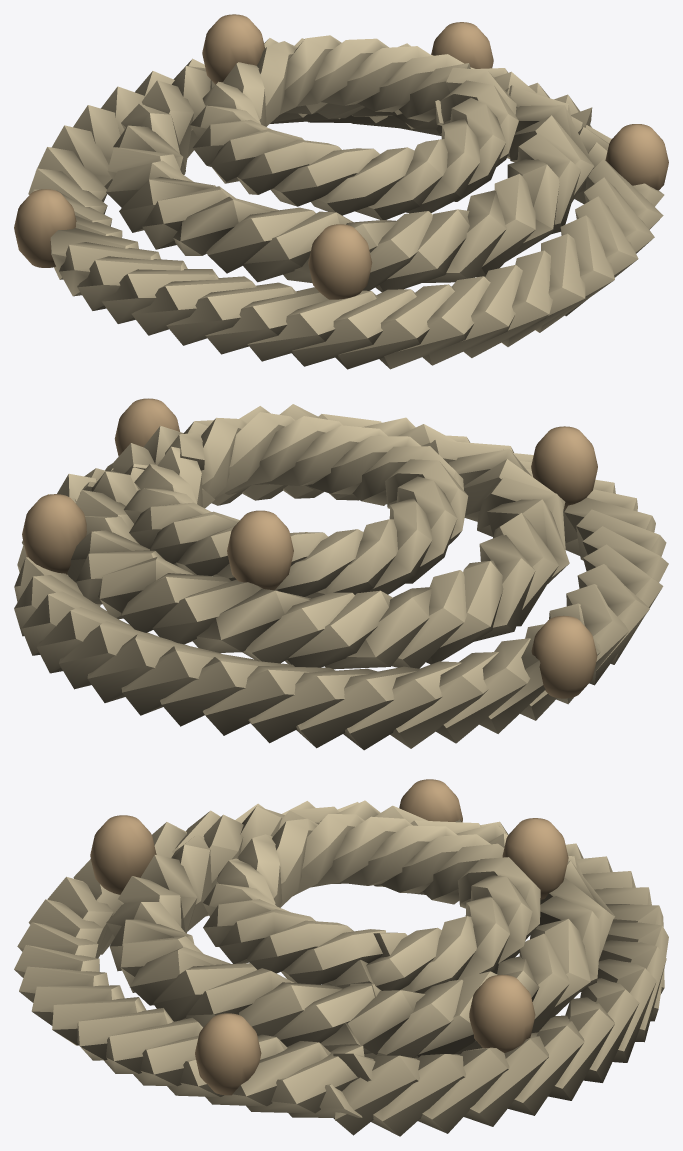
File: rig_net_pile.glb
The picture shows the model from 3 angles, top to bottom: view 1: azimuth 30°, elevation 25°; view 2: azimuth 150°, elevation 25°; view 3: azimuth 270°, elevation 25°; orthographic projection. The views are drawn at different scales.
Visible parts, largest first — view 1: rig_net_pile; view 2: rig_net_pile; view 3: rig_net_pile.
Boxes of the visible parts, left/top/right/bottom form: rig_net_pile: left=14, top=14, right=668, bottom=369; rig_net_pile: left=14, top=398, right=668, bottom=750; rig_net_pile: left=14, top=779, right=668, bottom=1136.
Size of the model in its own units: 2.23 by 0.6768 by 2.16.
